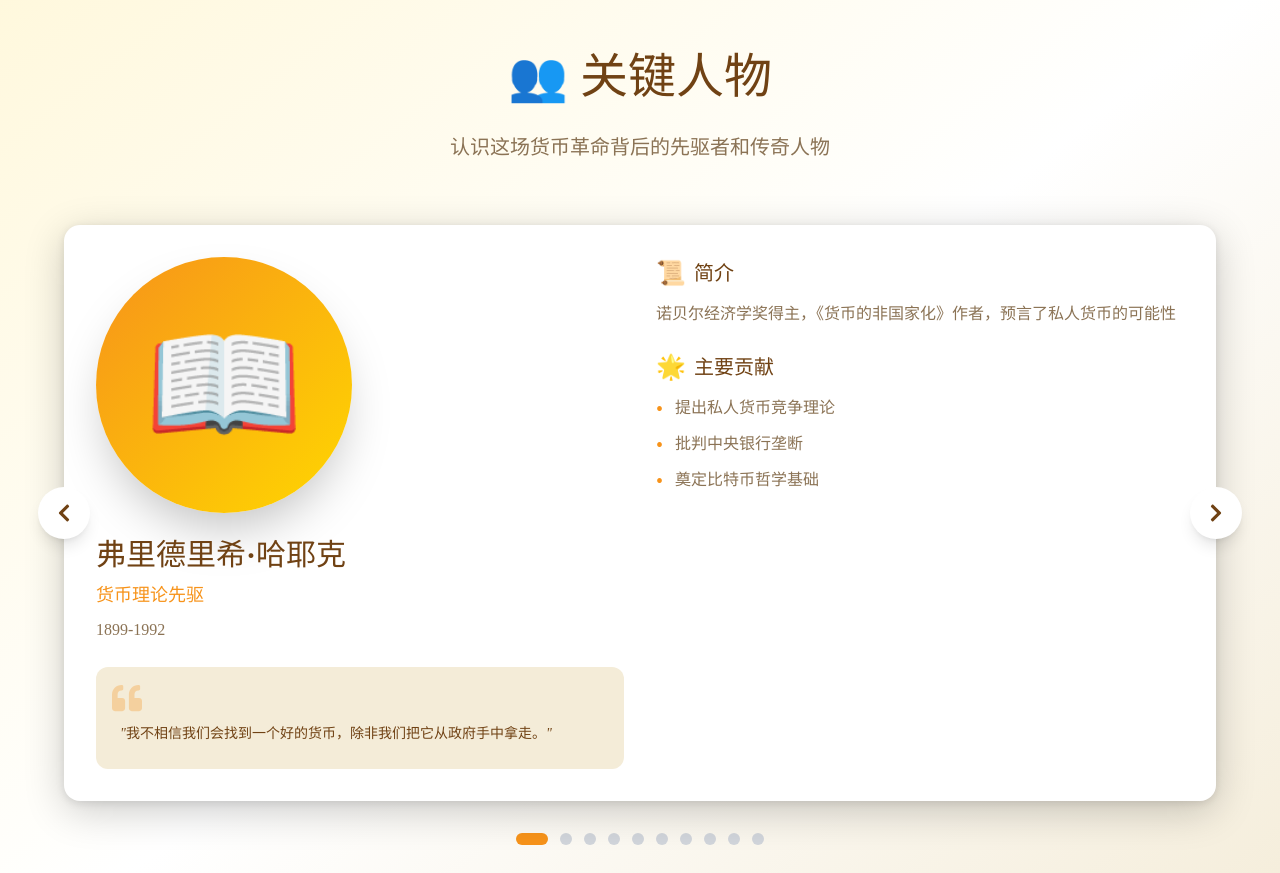
FiguresGallery › navigates to a specific figure via indicator dot click
This screenshot has width=1280, height=873.
Step 1. Click the tab named "哈尔·芬尼" → click(614, 839), box [608,833,620,845]
(page scrolled)
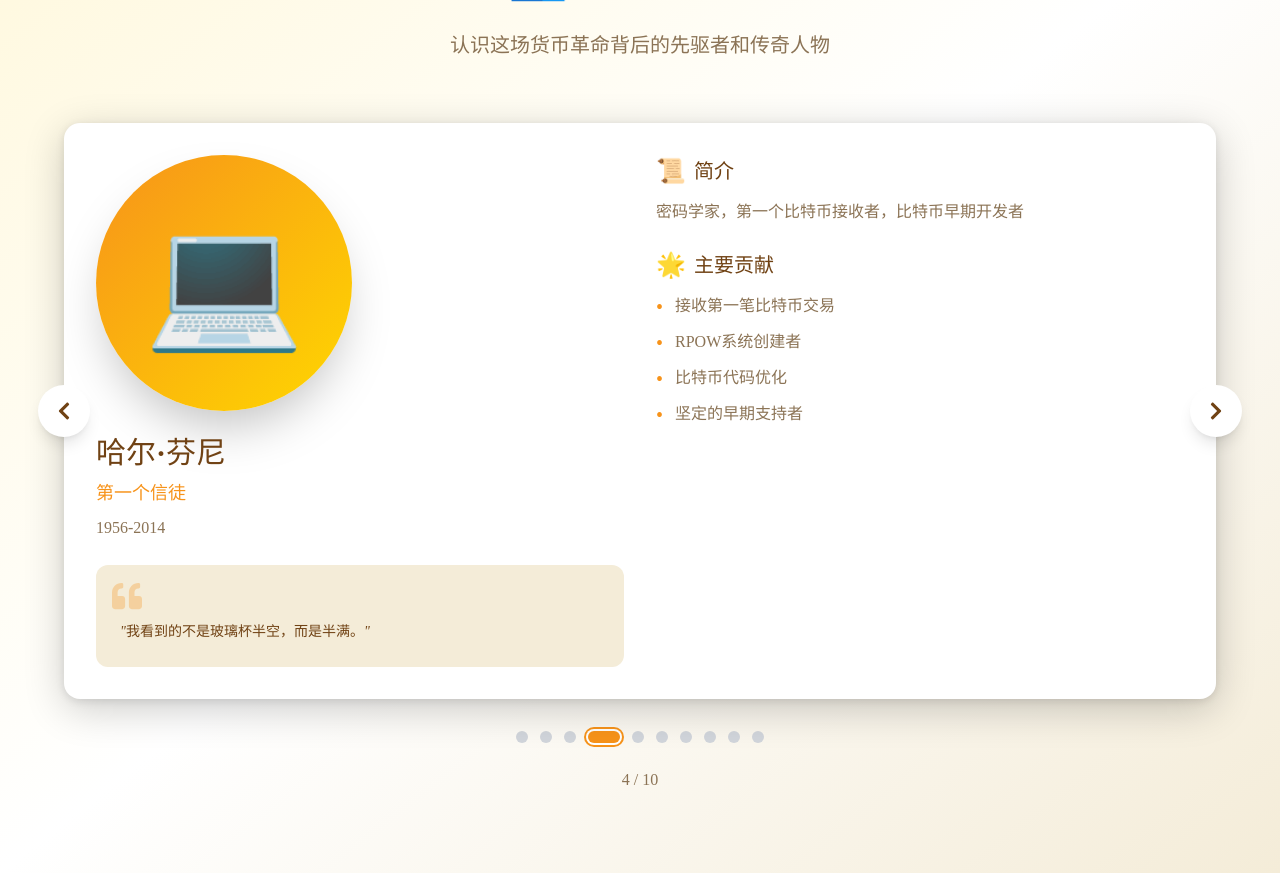
Now the heading "哈尔·芬尼" is shown, box [96,436,226,469]
